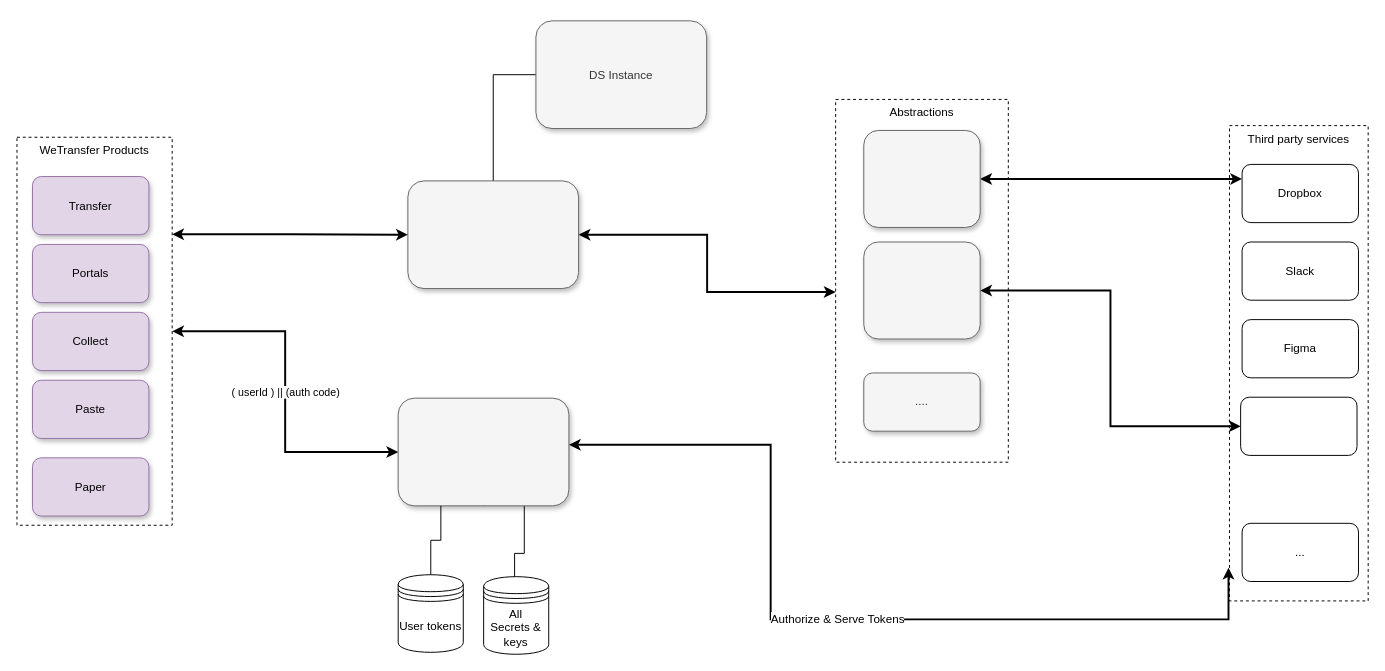
The diagram is 1385 pixels wide and 671 high, and some of its shapes have lost their labels. The centre of each missing label's shape, as x and y in pixels:
3rd party abstract API: (x=493, y=235)
Adobe: (x=1298, y=425)
Auth API: (x=484, y=453)
Service Abstraction GoogleDrive: (x=922, y=291)
ServiceAbstraction Dropbox: (x=922, y=180)
